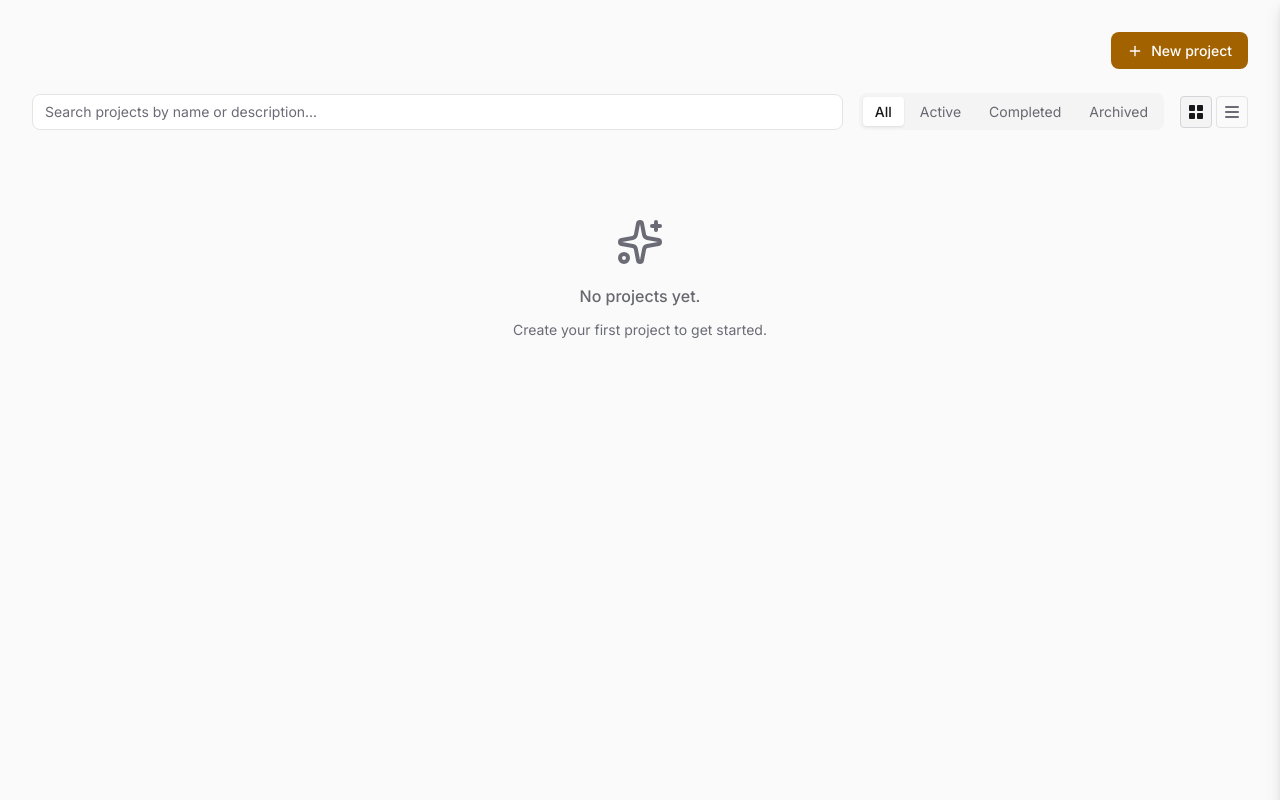
Test: ProjectList modal and slide-over › should open the create-project modal on New project click
Click the button "New project": (1180, 50) [1111, 32, 1248, 69]
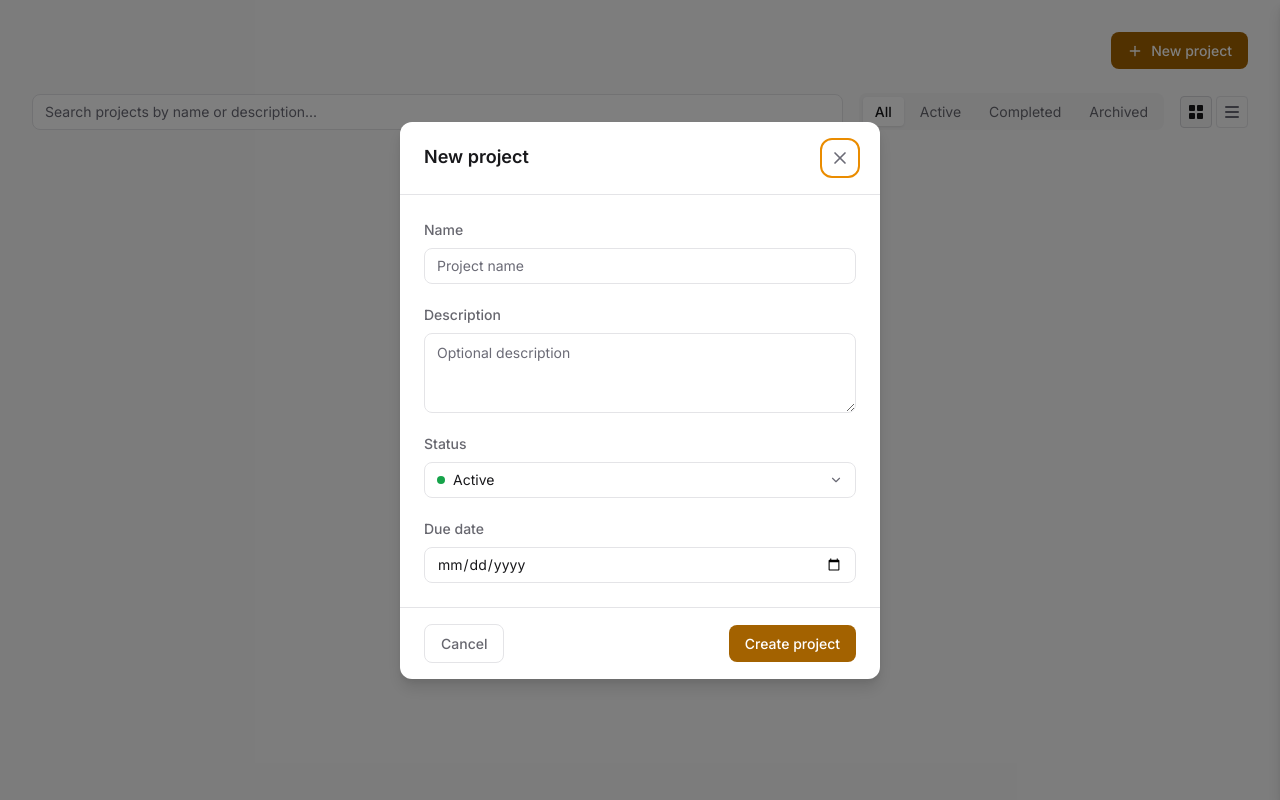
expect the dialog "New project" is shown: met, box [400, 122, 880, 678]
